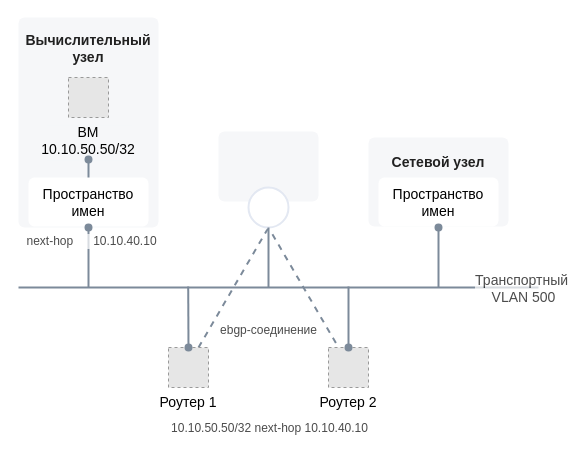
This 588x452 diagram has some shape labels left out. Grey dashed boxes stand in for pictures. Each missing label, with the centre of its shape:
nbgp: pixel 268 207
Управляющий узел: pixel 268 166
